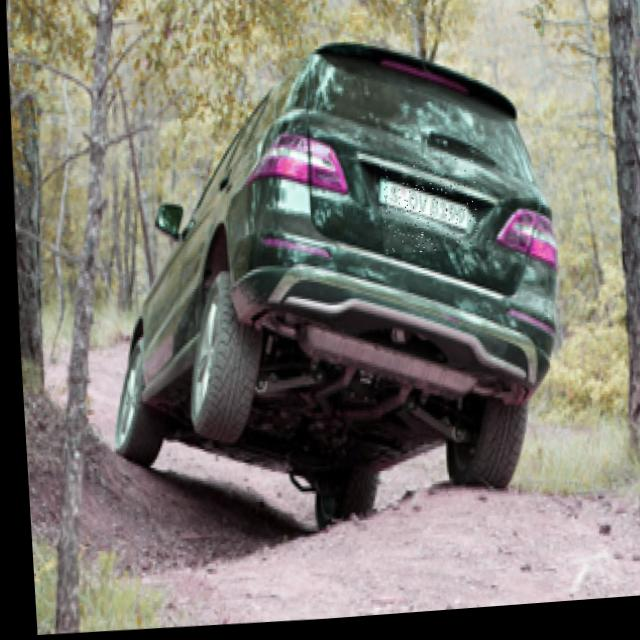license_plate: (375, 163, 476, 261)
